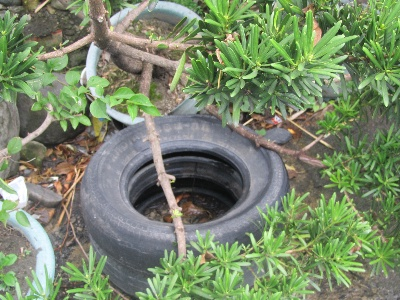tire: (79, 115, 294, 271)
